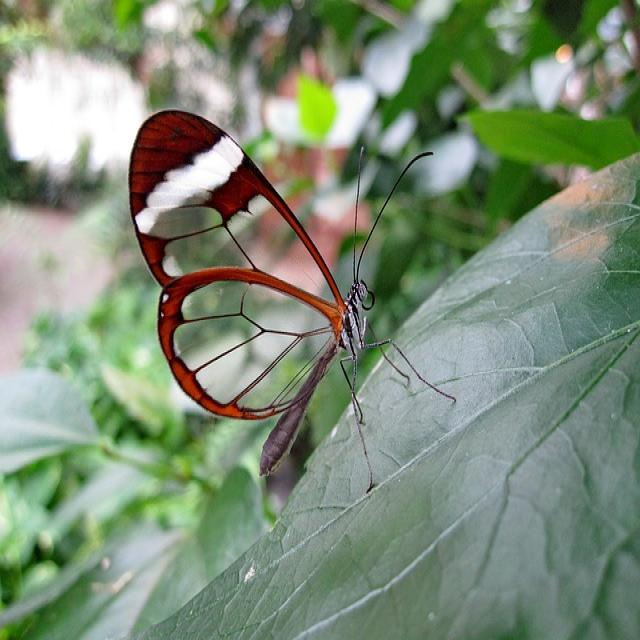butterfly: (130, 110, 455, 491)
